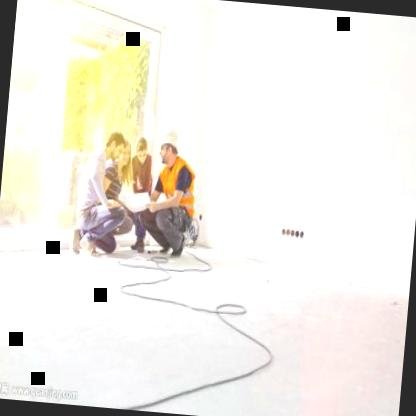head: (106, 126, 126, 160), (117, 138, 135, 170), (135, 134, 152, 166)
helmet: (156, 124, 183, 168)
